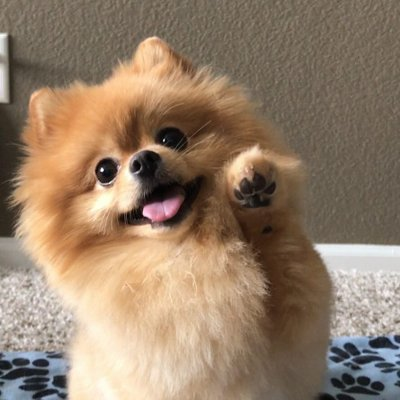pomeranian: (15, 39, 336, 400)
